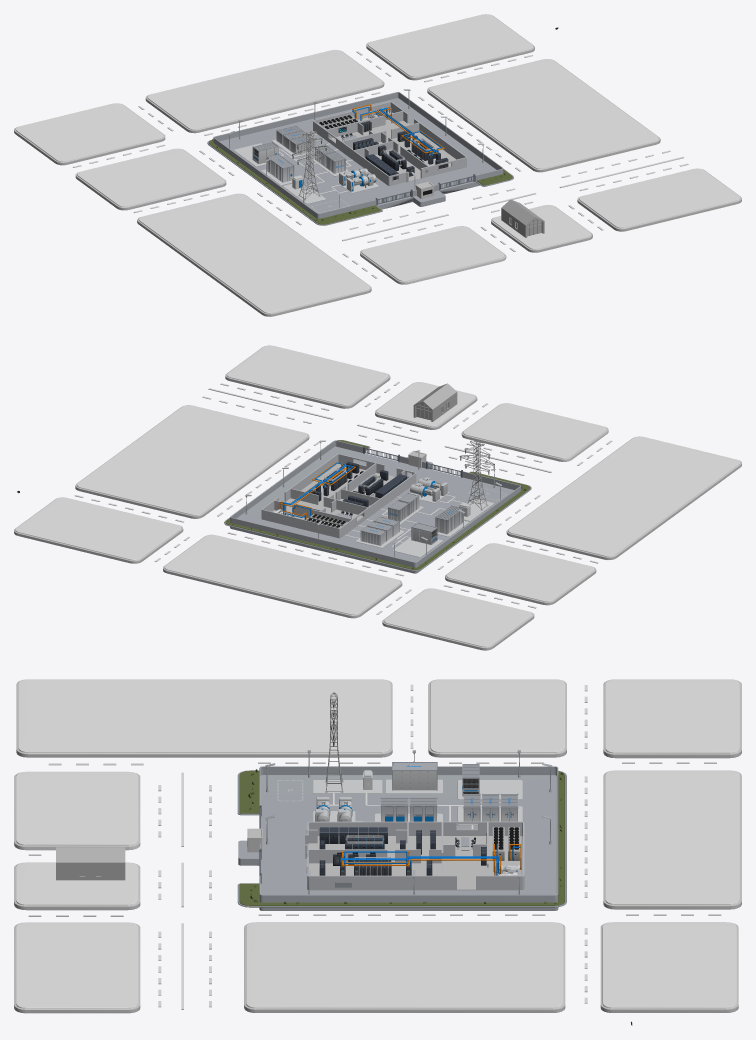
Rendered from scene_delta.glb.
3 renders of one model, top to bottom at view 1: azimuth 30°, elevation 25°; view 2: azimuth 150°, elevation 25°; view 3: azimuth 270°, elevation 25°, orthographic. The views are drawn at different scales.
Parts seen in each view (by area): view 1: Plane.038, Plane.036, Plane.041, Plane.024, Plane.042, Plane.035, Plane.040, Plane.039, Plane.037, Plane.002, Plane.034, Plane.001 (+5 smaller); view 2: Plane.038, Plane.036, Plane.041, Plane.024, Plane.042, Plane.035, Plane.040, Plane.039, Plane.037, Plane.002, Plane.034, Plane.001 (+7 smaller); view 3: Plane.038, Plane.036, Plane.024, Plane.041, Plane.042, Plane.035, Plane.040, Plane.039, Plane.037, Plane.002, Plane.034, Plane.010 (+13 smaller).
Boxes of the visible parts, x1,y1,x2,y2 form: Plane.038: (137, 193, 371, 316); Plane.036: (427, 59, 660, 172); Plane.041: (145, 49, 384, 133); Plane.024: (213, 92, 503, 218); Plane.042: (366, 14, 534, 80); Plane.035: (577, 168, 741, 231); Plane.040: (14, 103, 165, 165); Plane.039: (75, 148, 226, 210); Plane.037: (360, 226, 506, 284); Plane.002: (313, 101, 466, 185); Plane.034: (491, 205, 592, 252); Plane.001: (209, 140, 512, 224); Plane.038: (506, 436, 741, 559); Plane.036: (75, 405, 309, 518); Plane.041: (163, 534, 402, 618); Plane.024: (230, 440, 520, 573); Plane.042: (14, 497, 183, 563); Plane.035: (225, 345, 390, 408); Plane.040: (382, 588, 534, 650); Plane.039: (445, 543, 596, 605); Plane.037: (461, 403, 608, 461); Plane.002: (261, 453, 416, 538); Plane.034: (375, 382, 477, 429); Plane.001: (225, 440, 530, 571); Plane.038: (16, 679, 392, 757); Plane.036: (244, 922, 565, 1012); Plane.024: (238, 766, 558, 910); Plane.041: (603, 770, 741, 909); Plane.042: (600, 922, 738, 1012); Plane.035: (14, 922, 140, 1013); Plane.040: (603, 679, 741, 758); Plane.039: (428, 679, 566, 757); Plane.037: (14, 771, 140, 850); Plane.002: (305, 821, 524, 889); Plane.034: (14, 862, 140, 910); Plane.010: (308, 836, 520, 890).
Size of what is drawn, in the model's own units: 49.54 by 6.39 by 43.29.
14 materials, 9 textured.
